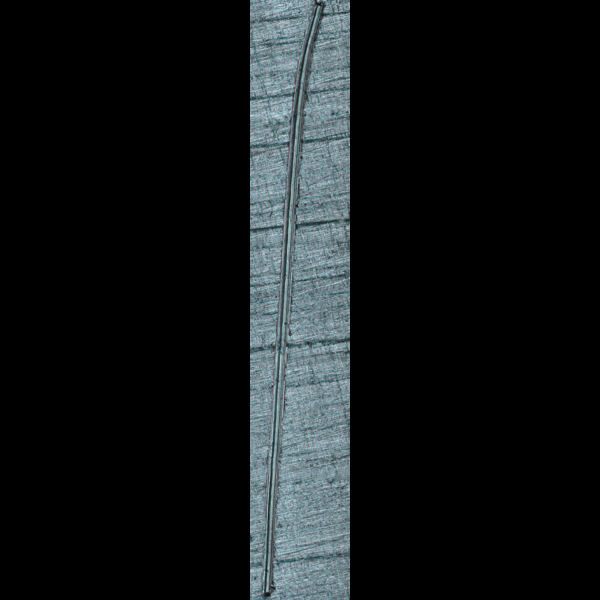d: (258, 0, 331, 599)
